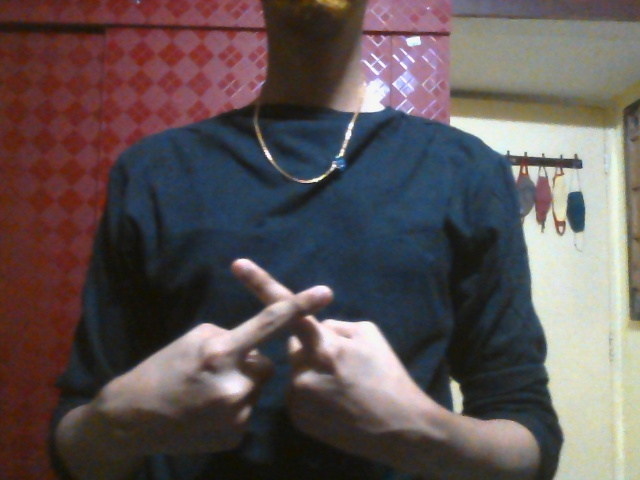X: (133, 260, 444, 463)
